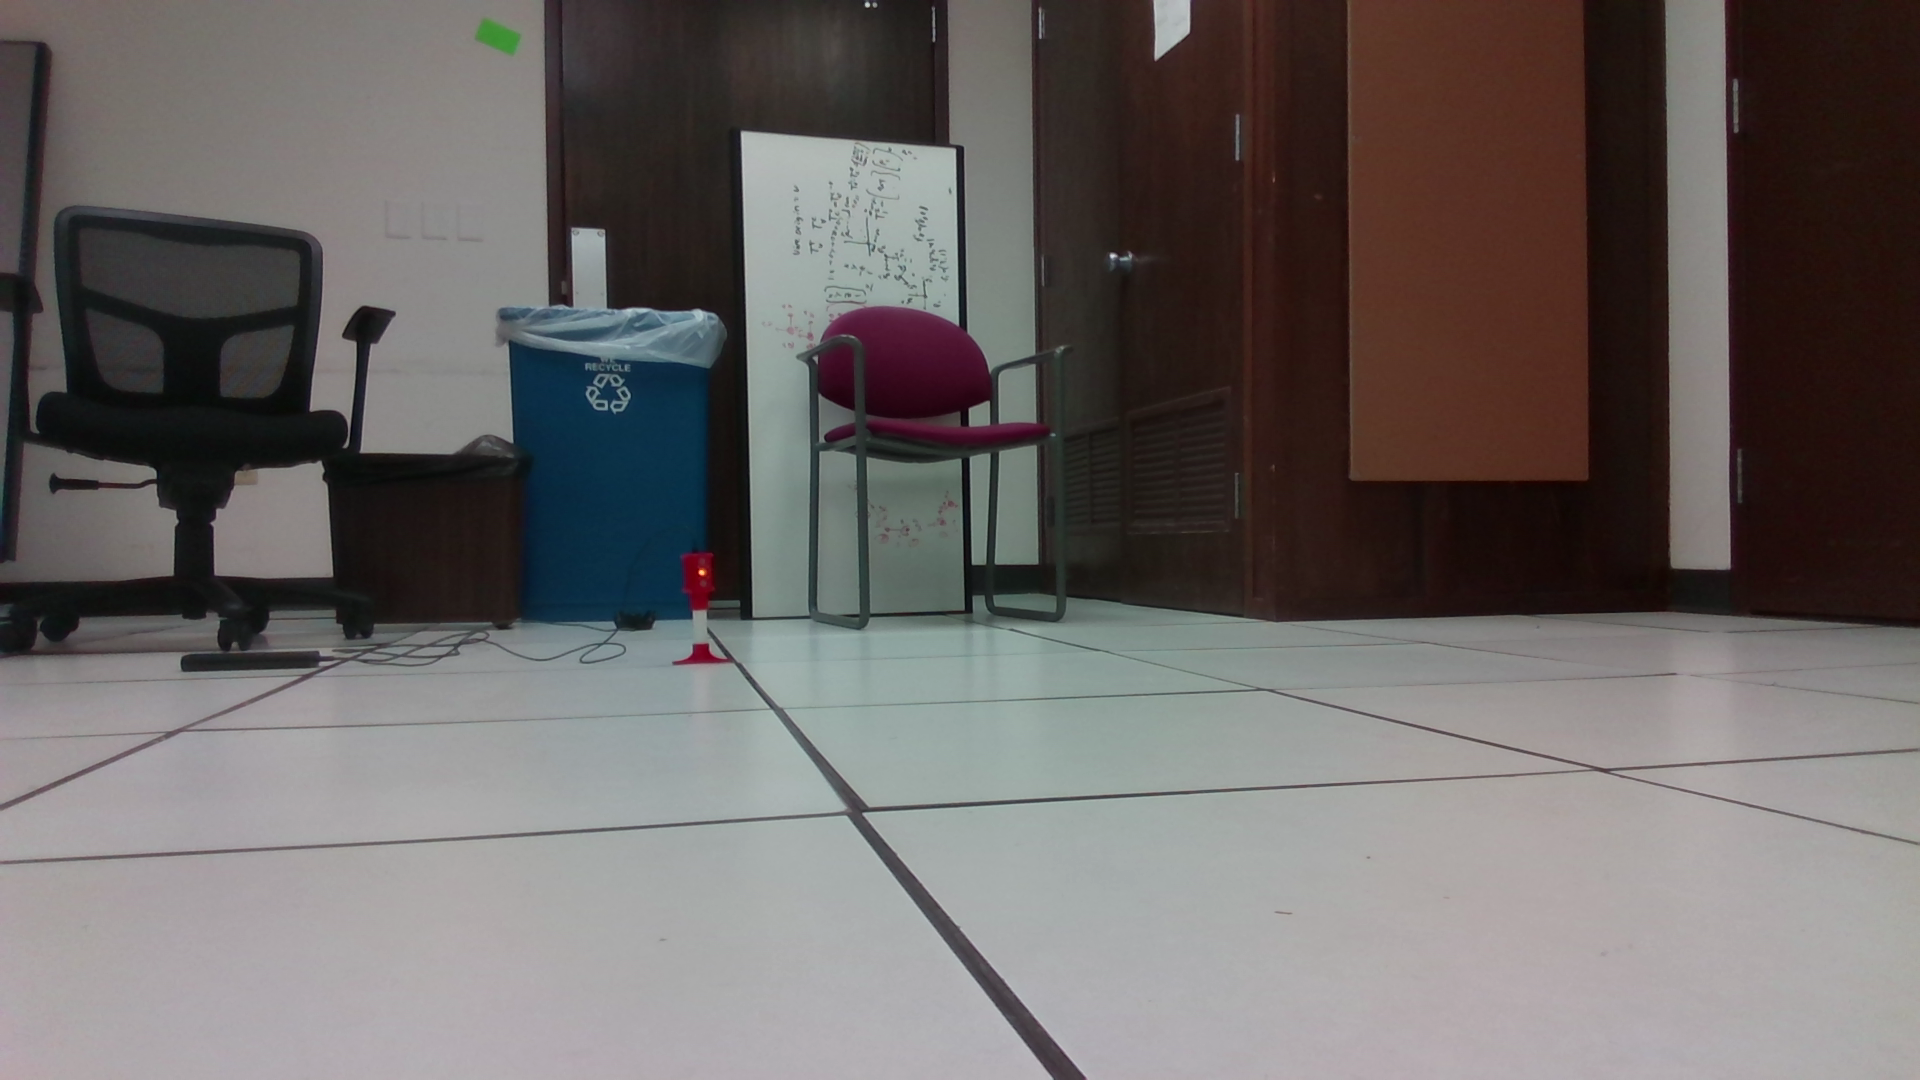stoplight: (680, 549, 721, 608)
